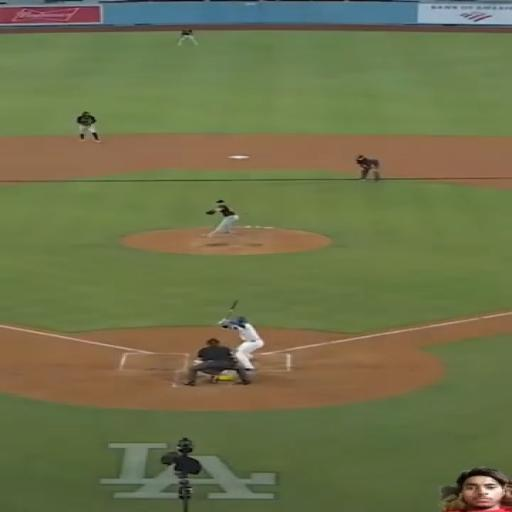bat: (225, 300, 238, 318)
